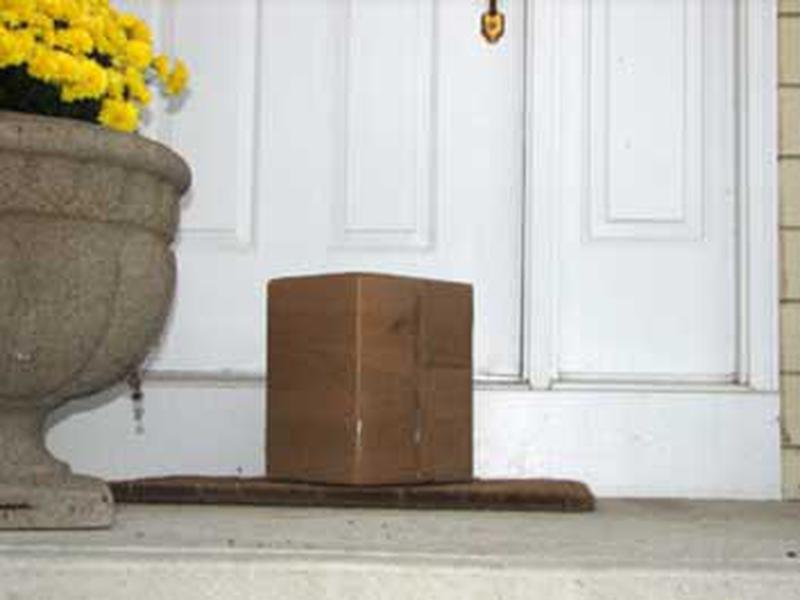package: (256, 261, 483, 493)
